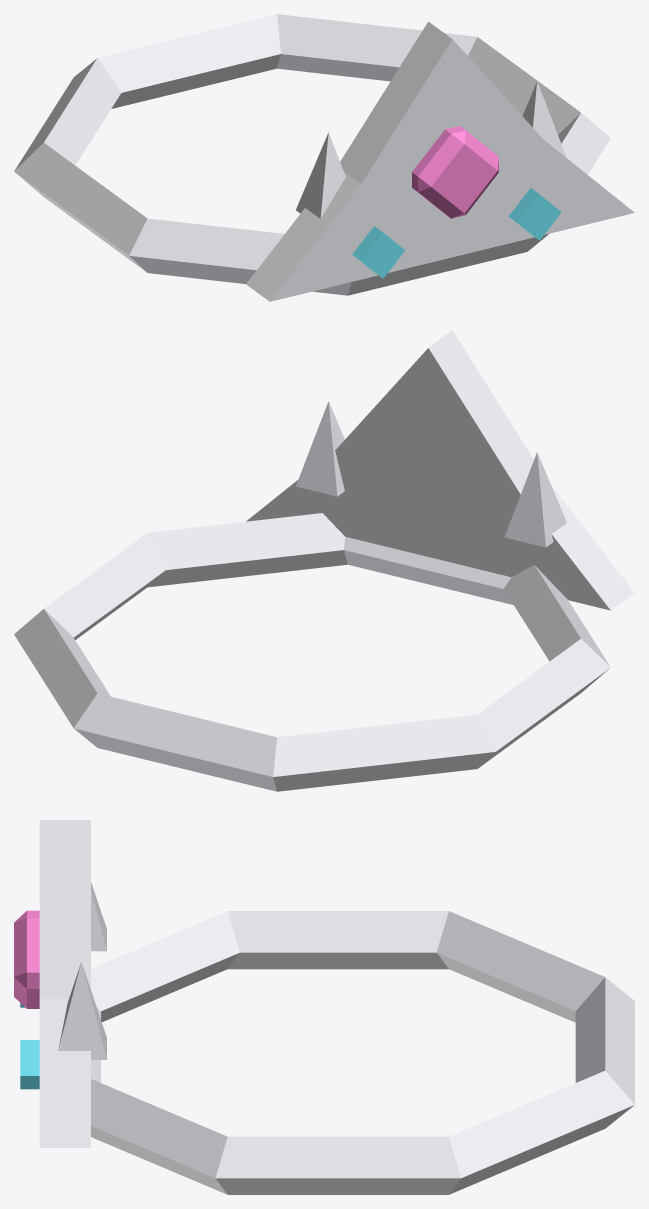
The model's file is Tiara.fbx.
3 renders of one model, top to bottom at view 1: azimuth 30°, elevation 25°; view 2: azimuth 150°, elevation 25°; view 3: azimuth 270°, elevation 25°, orthographic. The views are drawn at different scales.
Parts seen in each view (by area): view 1: Tiara; view 2: Tiara; view 3: Tiara.
Part boxes in pixels (x1,y1,x2,y2): Tiara: (14,14,634,301); Tiara: (14,330,634,791); Tiara: (14,820,634,1194).
Size of the model in its own units: 1.85 by 0.9 by 1.93.
Materials: 1 (1 with a texture image).
